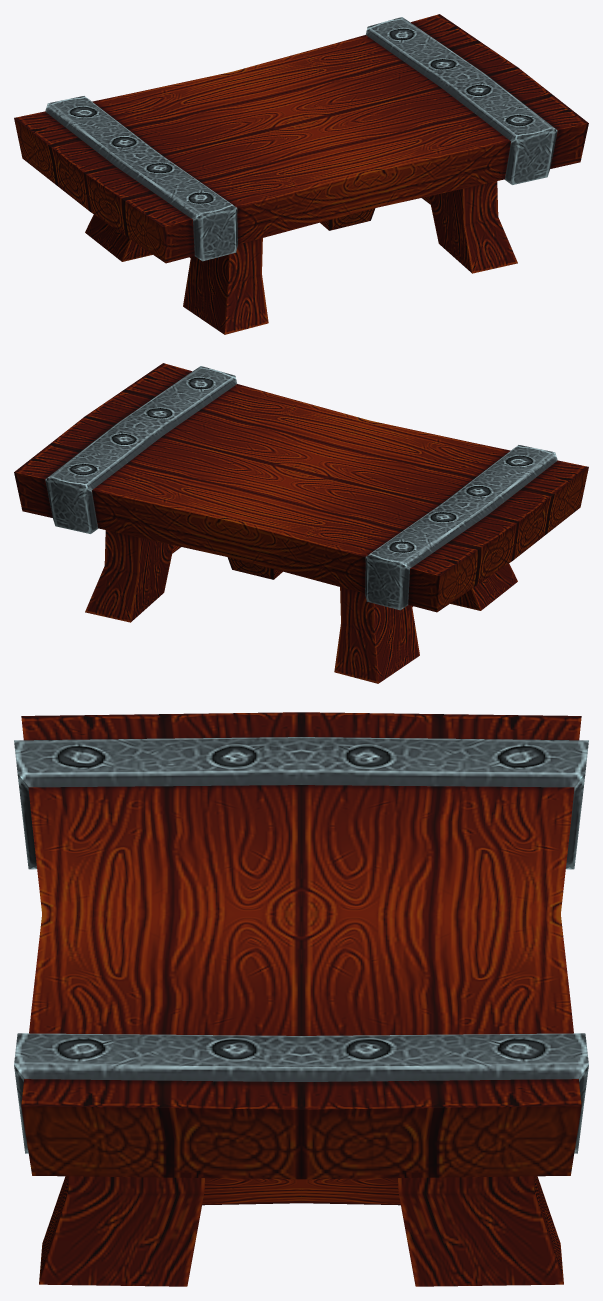
Rendered from table.gltf.
3 views of the same model, one above another, from view 1: azimuth 30°, elevation 25°; view 2: azimuth 150°, elevation 25°; view 3: azimuth 270°, elevation 25° (orthographic). The views are drawn at different scales.
Parts seen in each view (by area): view 1: Table; view 2: Table; view 3: Table.
Boxes of the visible parts, x1=… form: Table: x1=14, y1=14, x2=588, y2=334; Table: x1=14, y1=363, x2=588, y2=683; Table: x1=14, y1=712, x2=588, y2=1286.
Bounding box in the file's own units: 160 × 46.39 × 97.62.
Materials: 1 (1 with a texture image).
